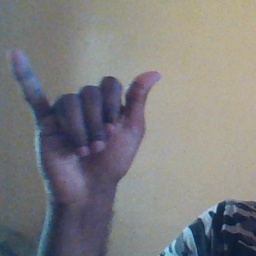J: (7, 45, 163, 190)
